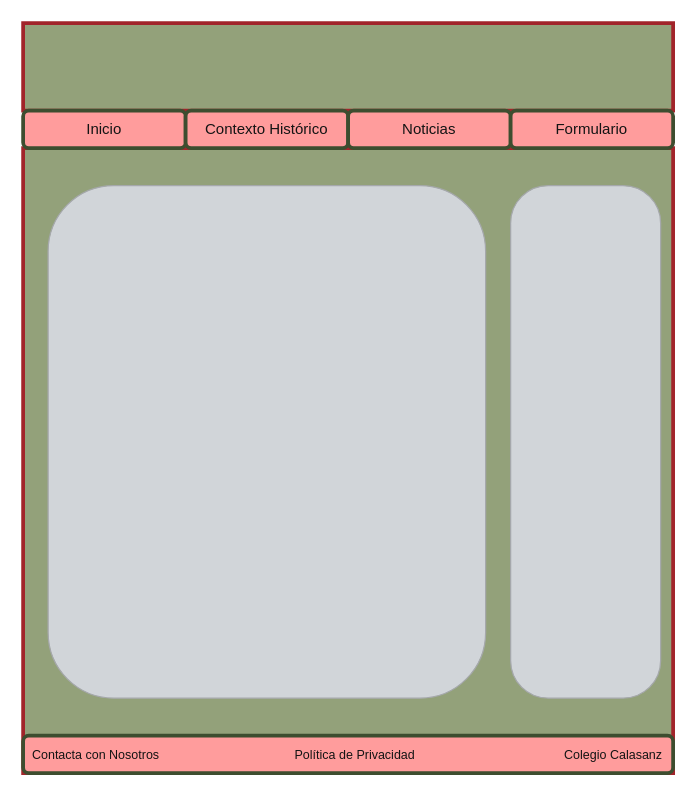
Some shapes in this 696 by 796 pixel diagram are drawn without their labels. Here are the shapes that lost their labels. From the top down, the box of each, then its label:
(21, 21, 674, 112): Logo, Banner y si es necesario, nombre
(47, 184, 486, 698): CUERPO
(509, 184, 661, 698): LINKS "Te podría Interesar"
